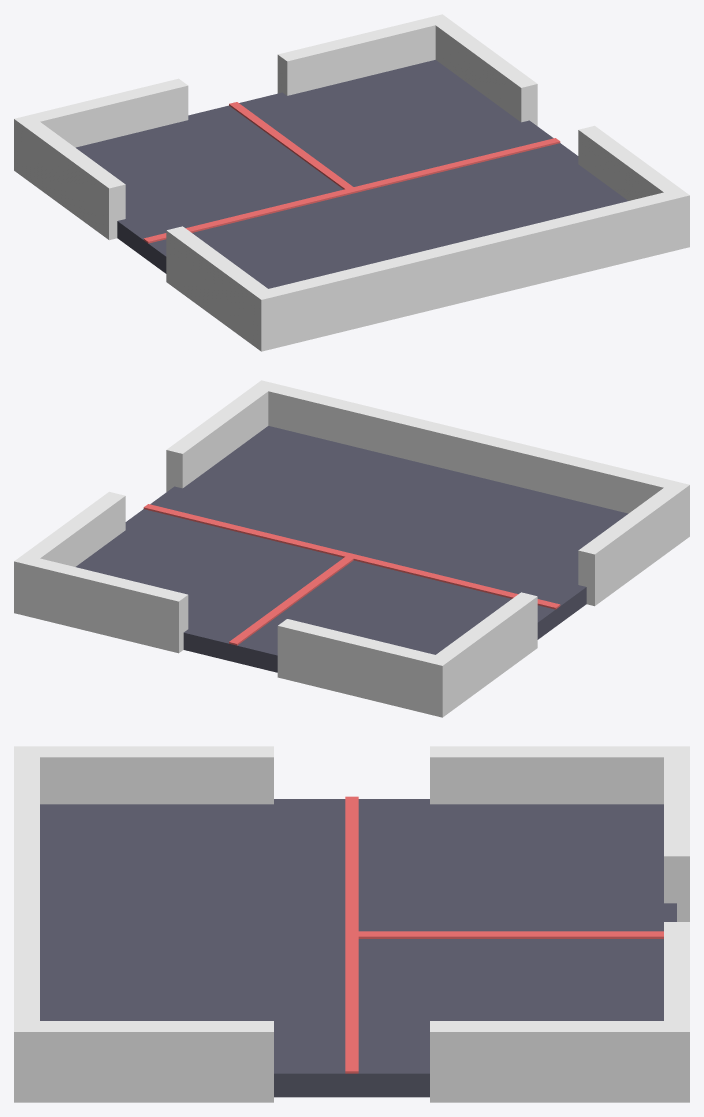
Rendered from Pattern_T.fbx.
3 views of the same model, one above another, from view 1: azimuth 30°, elevation 25°; view 2: azimuth 150°, elevation 25°; view 3: azimuth 270°, elevation 25° (orthographic). The views are drawn at different scales.
Visible parts, largest first — view 1: Pattern_T; view 2: Pattern_T; view 3: Pattern_T.
Part boxes in pixels (x1,y1,x2,y2): Pattern_T: (14, 14, 689, 351); Pattern_T: (14, 380, 689, 717); Pattern_T: (14, 746, 689, 1102).
Size of the model in its own units: 26 by 3 by 26.
